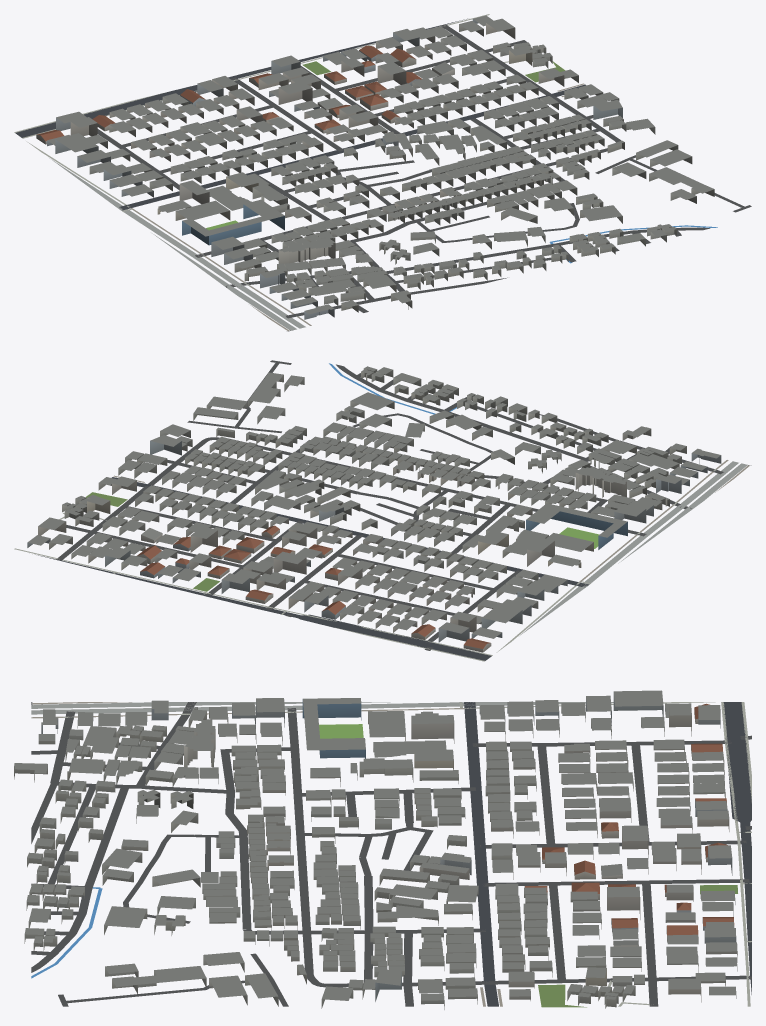
The picture shows the model from 3 angles, top to bottom: view 1: azimuth 30°, elevation 25°; view 2: azimuth 150°, elevation 25°; view 3: azimuth 270°, elevation 25°; orthographic projection. The views are drawn at different scales.
Visible parts, largest first — view 1: building, ground; view 2: building, ground; view 3: building, ground.
Part boxes in pixels (box(x1,y1,x2,y2)): building: box(36, 15, 714, 319); ground: box(14, 14, 751, 331); building: box(27, 366, 721, 652); ground: box(14, 360, 751, 661); building: box(14, 690, 737, 1009); ground: box(31, 702, 751, 1007).
Size of the model in its own units: 505 by 18 by 512.
